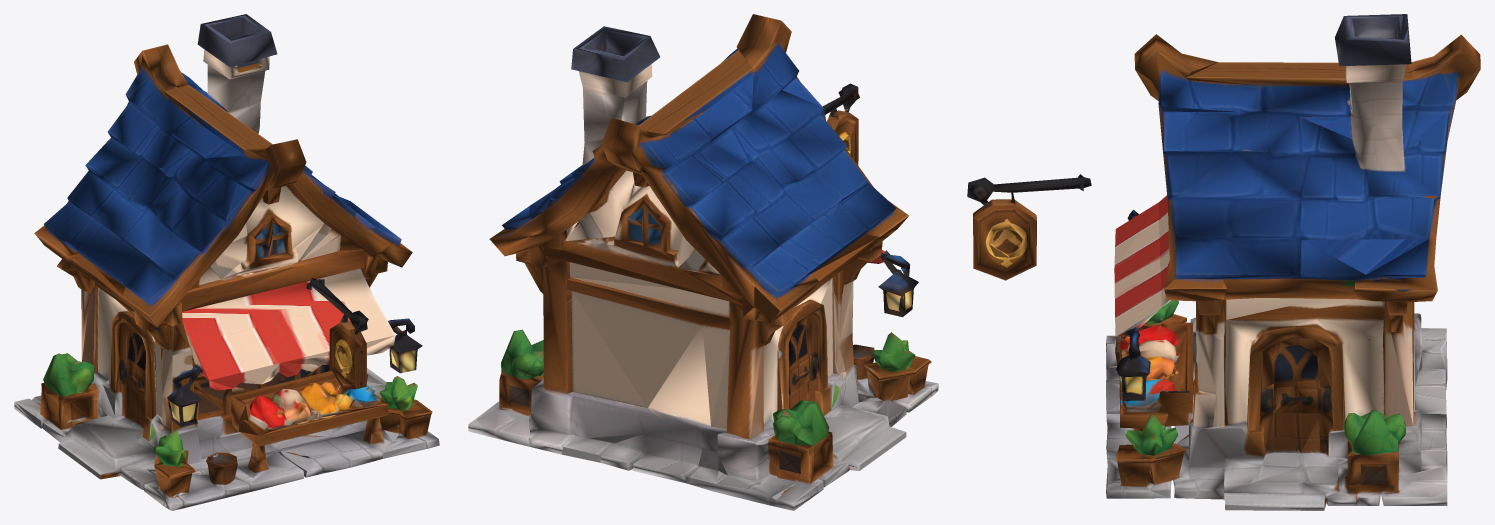
The model's file is shop-red.glb.
3 renders of one model, left to right at view 1: azimuth 30°, elevation 25°; view 2: azimuth 150°, elevation 25°; view 3: azimuth 270°, elevation 25°, orthographic. The views are drawn at different scales.
Parts seen in each view (by area): view 1: shop_market; view 2: shop_market; view 3: shop_market.
Part boxes in pixels (x1=…): shop_market: x1=14, y1=14, x2=439, y2=510; shop_market: x1=468, y1=14, x2=938, y2=510; shop_market: x1=967, y1=14, x2=1480, y2=510.
Bounding box in the file's own units: 4.94 × 5.52 × 6.
1 material, 1 textured.
